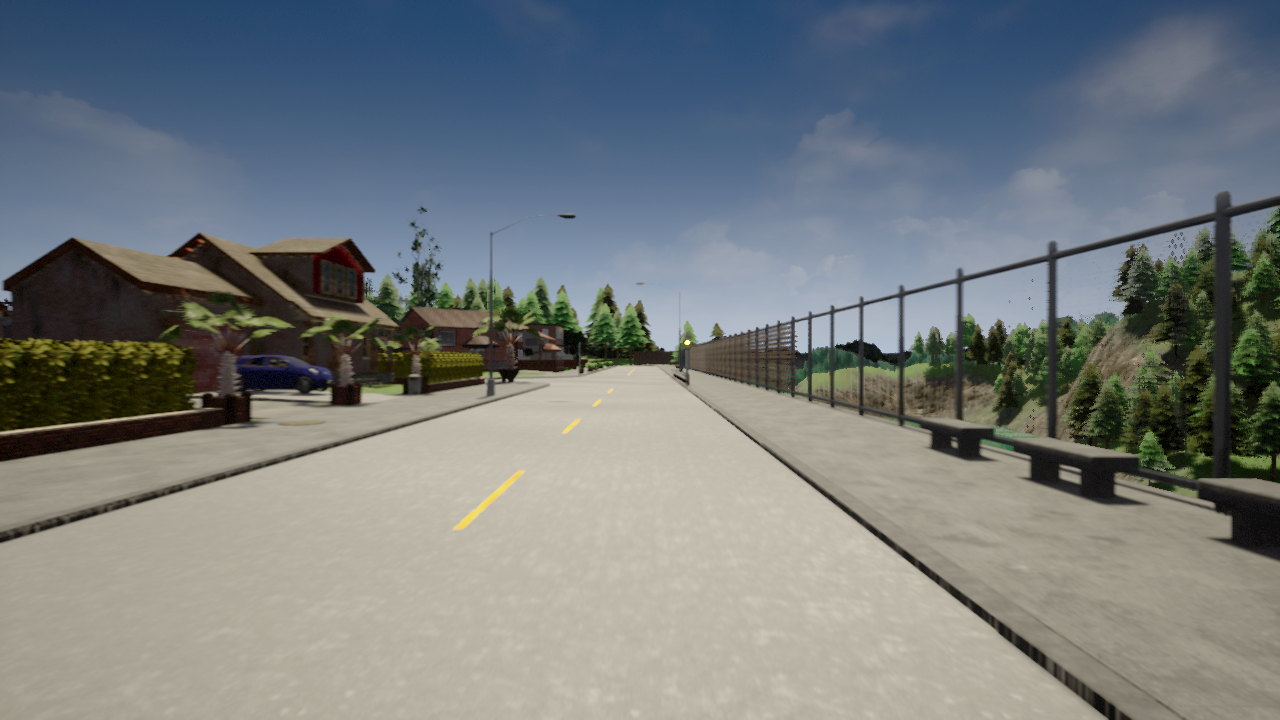yellow: (682, 334, 691, 352)
